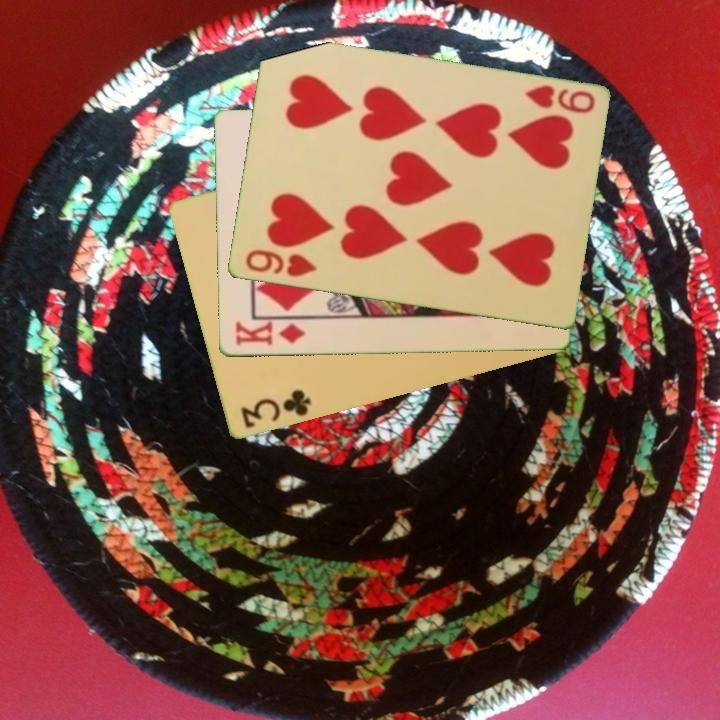3c: (237, 386, 314, 432)
9h: (521, 81, 598, 117), (241, 246, 319, 281)
Kd: (231, 318, 308, 349)
